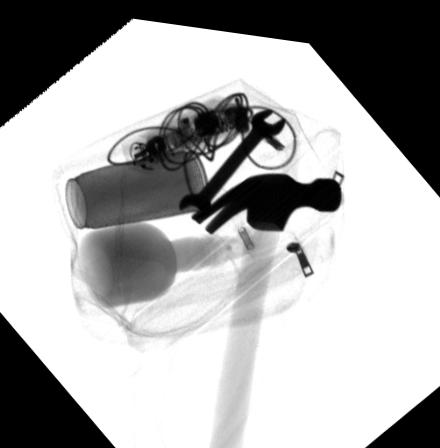Hammer: (189, 163, 340, 448)
Wrench: (177, 102, 285, 214)
